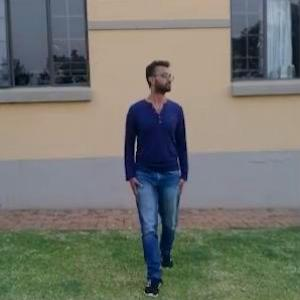follow: (119, 49, 197, 299)
